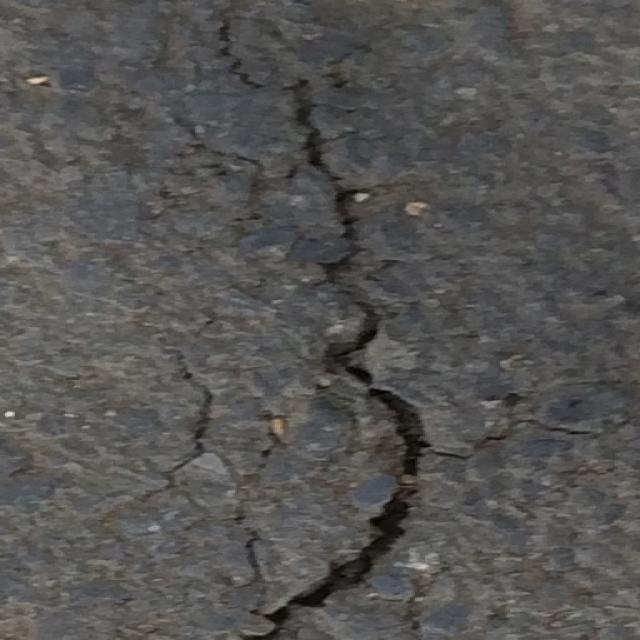crack: (188, 9, 448, 637)
